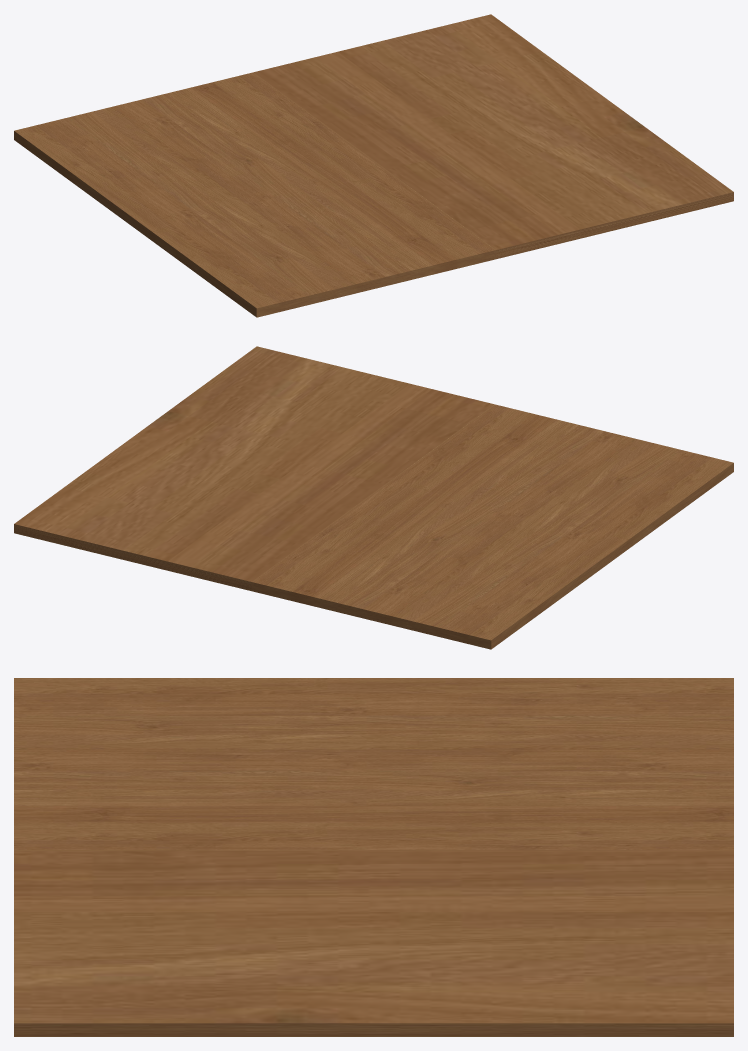
3 renders of one model, top to bottom at view 1: azimuth 30°, elevation 25°; view 2: azimuth 150°, elevation 25°; view 3: azimuth 270°, elevation 25°, orthographic. The views are drawn at different scales.
Visible parts, largest first — view 1: plane_left, plane_right, plane_middle; view 2: plane_left, plane_right, plane_middle; view 3: plane_right, plane_left, plane_middle.
Part boxes in pixels (x1,y1,x2,y2): plane_left: (14, 73, 494, 317); plane_right: (254, 14, 733, 258); plane_middle: (252, 72, 496, 259); plane_left: (253, 405, 733, 649); plane_right: (14, 346, 493, 590); plane_middle: (251, 404, 495, 591); plane_right: (14, 851, 733, 1036); plane_left: (14, 678, 733, 849); plane_middle: (14, 850, 733, 851).
Bounding box in the file's own units: 4.02 × 0.0743 × 3.54.
2 materials, 2 textured.
